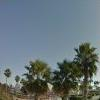Palm tree: (17, 45, 97, 96)
